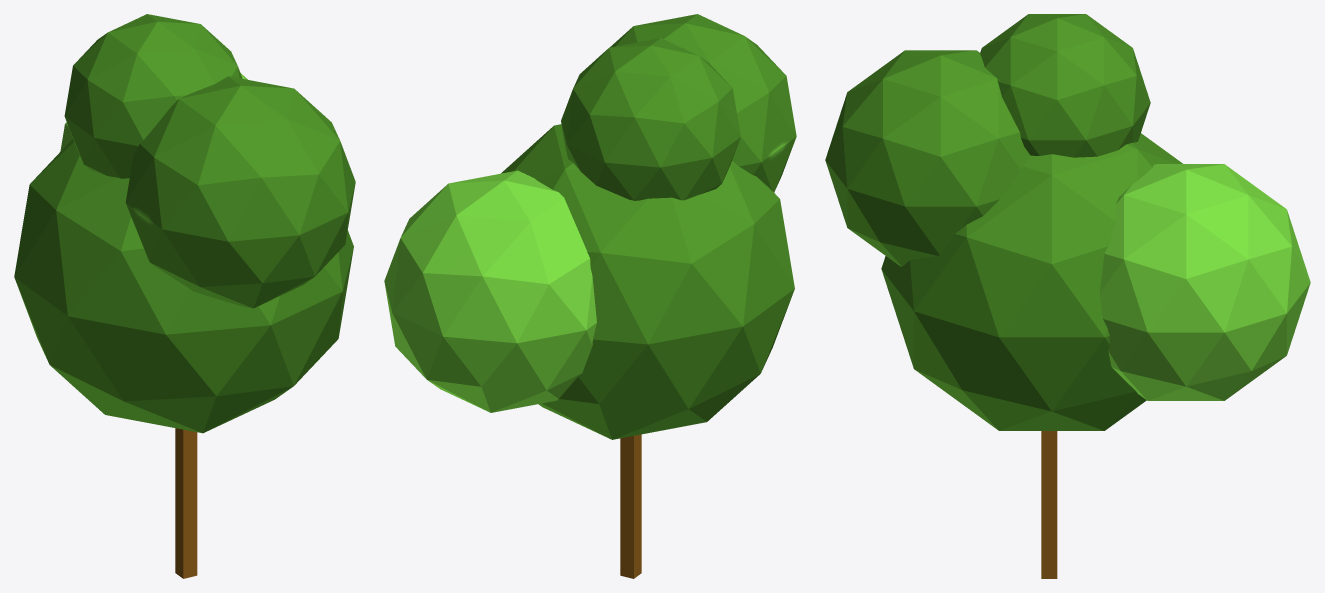
The model's file is Tree_2.FBX.
The picture shows the model from 3 angles, left to right: view 1: azimuth 30°, elevation 25°; view 2: azimuth 150°, elevation 25°; view 3: azimuth 270°, elevation 25°; orthographic projection. The views are drawn at different scales.
Parts seen in each view (by area): view 1: Icosphere.007; view 2: Icosphere.007; view 3: Icosphere.007.
Part boxes in pixels (x1,y1,x2,y2): Icosphere.007: [14, 14, 355, 578]; Icosphere.007: [384, 14, 796, 578]; Icosphere.007: [825, 14, 1310, 578].
Size of the model in its own units: 132 by 226 by 183.
Materials: 1 (1 with a texture image).
